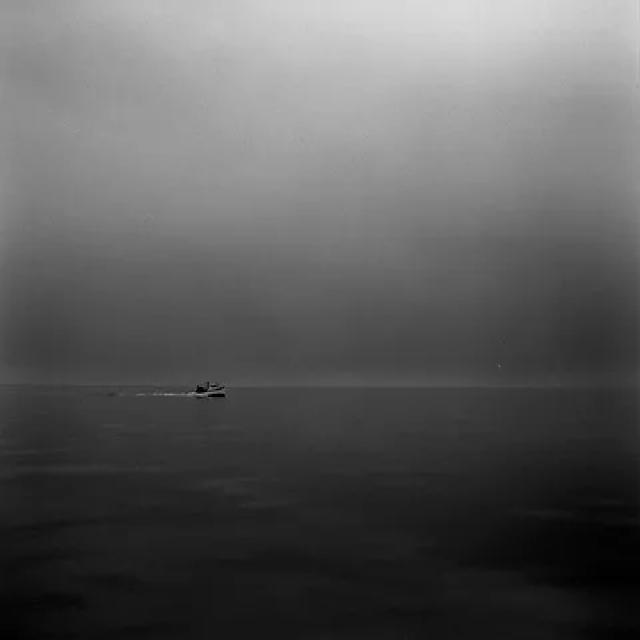houseboat: (192, 375, 230, 397)
